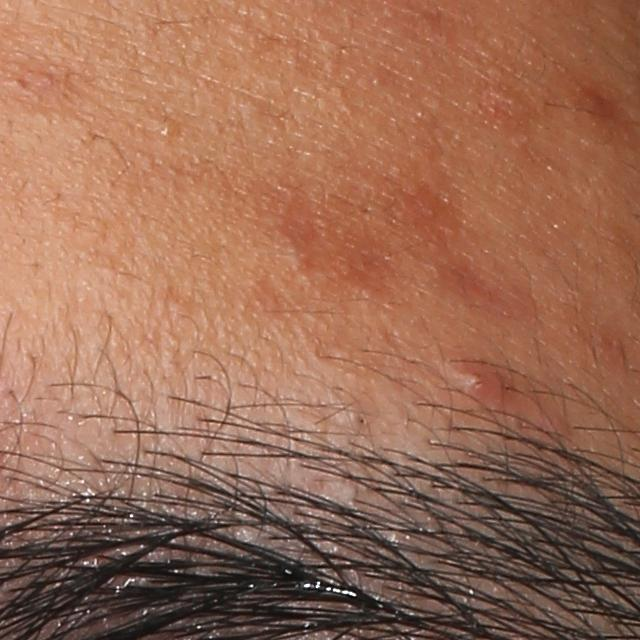comedo: (347, 409, 370, 430)
papule: (451, 365, 507, 400)
